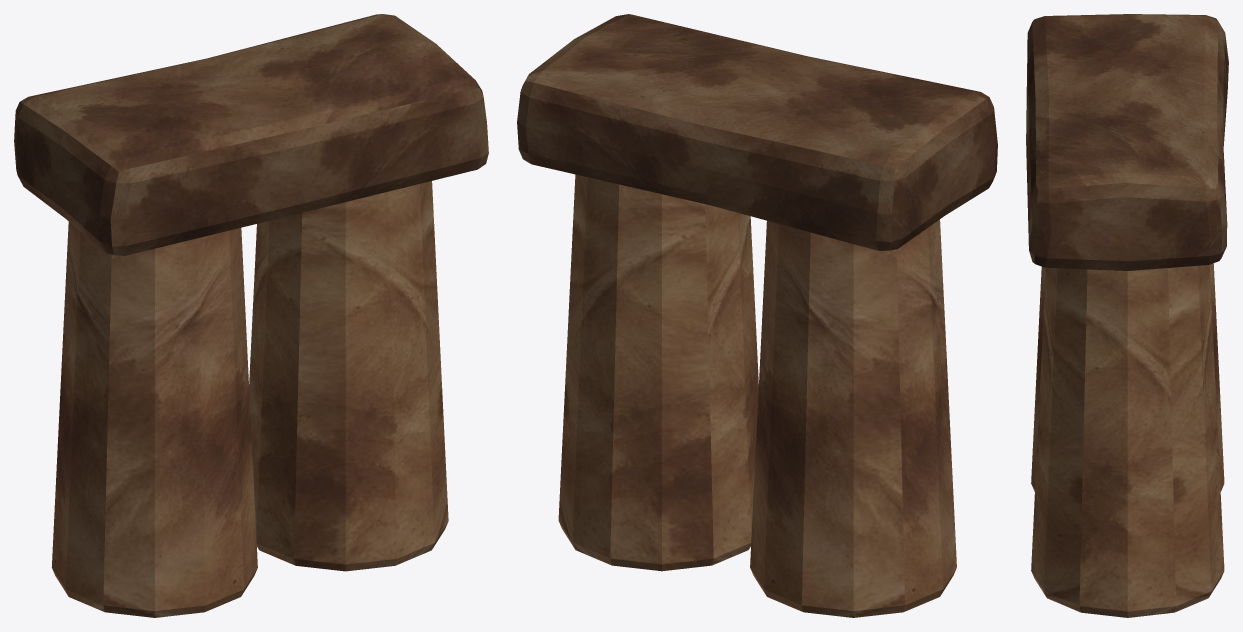
Rendered from trousers_leather.glb.
The picture shows the model from 3 angles, left to right: view 1: azimuth 30°, elevation 25°; view 2: azimuth 150°, elevation 25°; view 3: azimuth 270°, elevation 25°; orthographic projection. The views are drawn at different scales.
Parts seen in each view (by area): view 1: model; view 2: model; view 3: model.
Part boxes in pixels (<box>): model: <box>14,14,488,617</box>; model: <box>517,14,997,617</box>; model: <box>1026,14,1228,617</box>.
Size of the model in its own units: 0.3455 by 0.4037 by 0.1669.
Materials: 2 (2 with a texture image).
